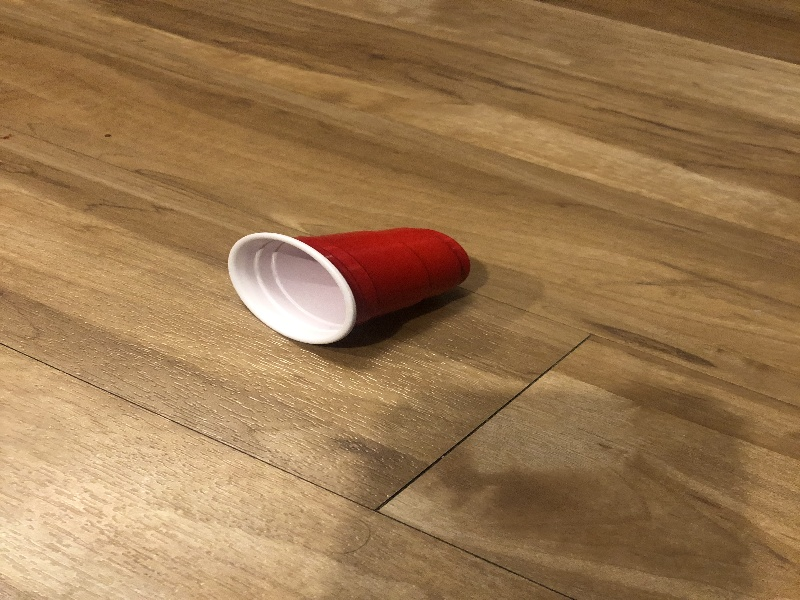plastic: (220, 215, 478, 352)
